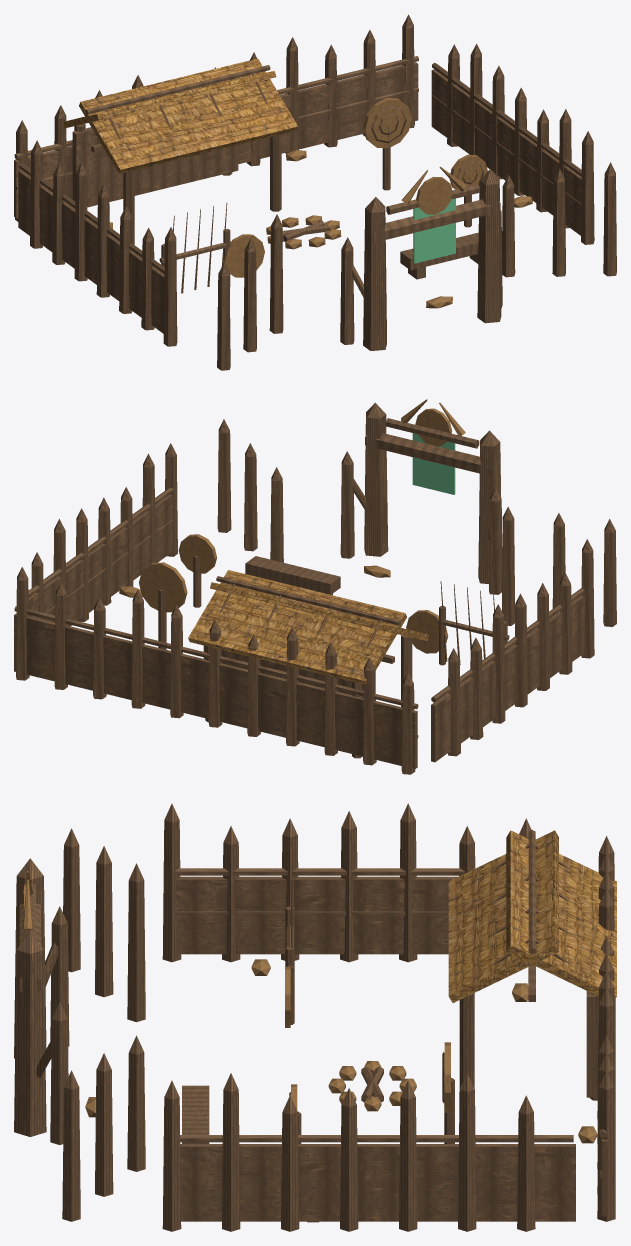
Rendered from edificio-barracks-e0-lod0-C_Ecuuc3.glb.
3 views of the same model, one above another, from view 1: azimuth 30°, elevation 25°; view 2: azimuth 150°, elevation 25°; view 3: azimuth 270°, elevation 25° (orthographic). The views are drawn at different scales.
Visible parts, largest first — view 1: edificio-barracks-e0-final-v1_cuartel_pbr, edificio-barracks-e0-final-v1_team_color; view 2: edificio-barracks-e0-final-v1_cuartel_pbr, edificio-barracks-e0-final-v1_team_color; view 3: edificio-barracks-e0-final-v1_cuartel_pbr.
Part boxes in pixels (x1,y1,x2,y2): edificio-barracks-e0-final-v1_cuartel_pbr: (14, 14, 616, 370); edificio-barracks-e0-final-v1_team_color: (413, 198, 455, 263); edificio-barracks-e0-final-v1_cuartel_pbr: (14, 399, 616, 774); edificio-barracks-e0-final-v1_team_color: (412, 433, 455, 494); edificio-barracks-e0-final-v1_cuartel_pbr: (14, 803, 616, 1231).
Bounding box in the file's own units: 55.48 × 20.45 × 51.06.
2 materials, 1 textured.
